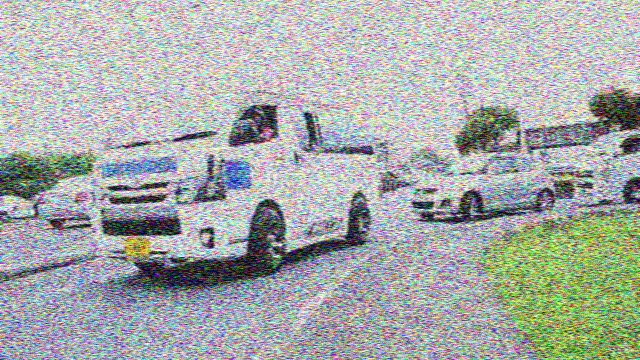van: (84, 92, 394, 287)
